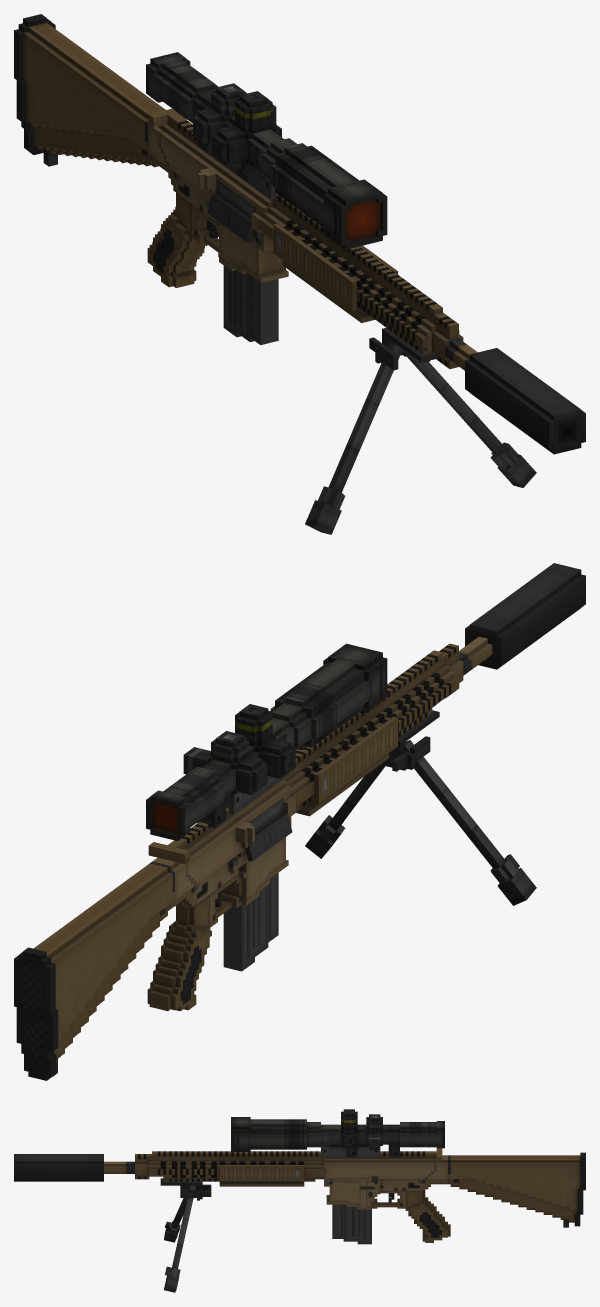
The picture shows the model from 3 angles, top to bottom: view 1: azimuth 30°, elevation 25°; view 2: azimuth 150°, elevation 25°; view 3: azimuth 270°, elevation 25°; orthographic projection. The views are drawn at different scales.
Parts seen in each view (by area): view 1: M110, SCOPE_NIGHTFORCE, SILENCER_8X8, SCOPE_LEUPOLD, M110_CLIP, DIPOD2_LEG1, DIPOD2_LEG2, DIPOD2; view 2: M110, SCOPE_NIGHTFORCE, SCOPE_LEUPOLD, SILENCER_8X8, M110_CLIP, DIPOD2_LEG1, DIPOD2_LEG2, DIPOD2; view 3: M110, SCOPE_NIGHTFORCE, SCOPE_LEUPOLD, SILENCER_8X8, M110_CLIP, DIPOD2_LEG2, DIPOD2, DIPOD2_LEG1.
Boxes of the visible parts, x1,y1,x2,y2 form: M110: (14,14,477,370); SCOPE_NIGHTFORCE: (146,52,387,249); SILENCER_8X8: (465,348,585,454); SCOPE_LEUPOLD: (146,59,371,245); M110_CLIP: (223,265,278,344); DIPOD2_LEG1: (305,343,402,534); DIPOD2_LEG2: (399,346,536,487); DIPOD2: (369,327,436,370); M110: (14,636,492,1080); SCOPE_NIGHTFORCE: (146,643,387,840); SCOPE_LEUPOLD: (150,651,382,840); SILENCER_8X8: (465,563,585,669); M110_CLIP: (223,873,278,971); DIPOD2_LEG1: (402,740,536,905); DIPOD2_LEG2: (305,765,385,858); DIPOD2: (380,710,439,771); M110: (104,1151,585,1242); SCOPE_NIGHTFORCE: (231,1114,444,1157); SCOPE_LEUPOLD: (236,1109,444,1157); SILENCER_8X8: (14,1154,103,1181); M110_CLIP: (332,1204,371,1244); DIPOD2_LEG2: (164,1186,195,1292); DIPOD2: (160,1178,211,1200); DIPOD2_LEG1: (164,1185,195,1242).
Size of the model in its own units: 0.4782 by 0.6015 by 2.
5 materials, 5 textured.
